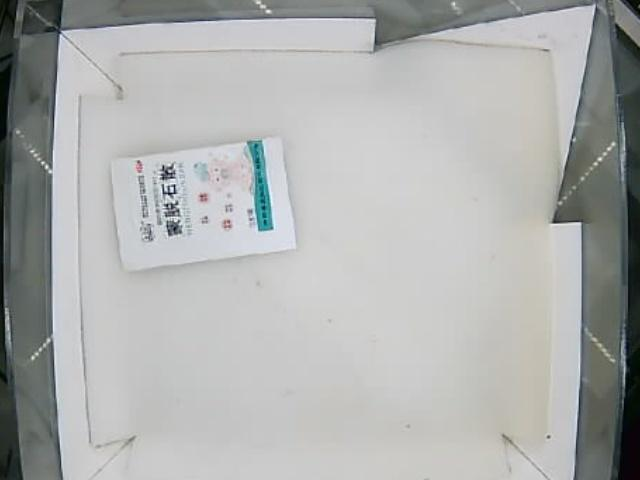Medicine: (109, 131, 295, 270)
